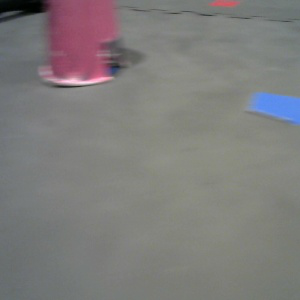middle: (38, 1, 131, 87)
